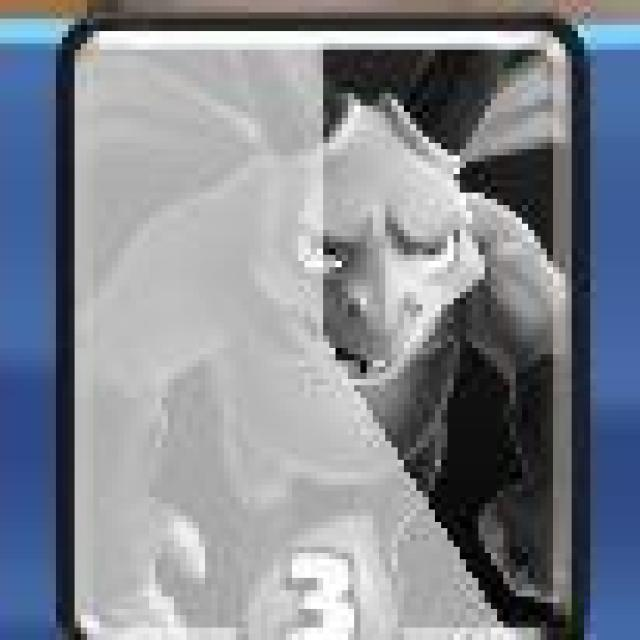Minions: (65, 21, 582, 640)
